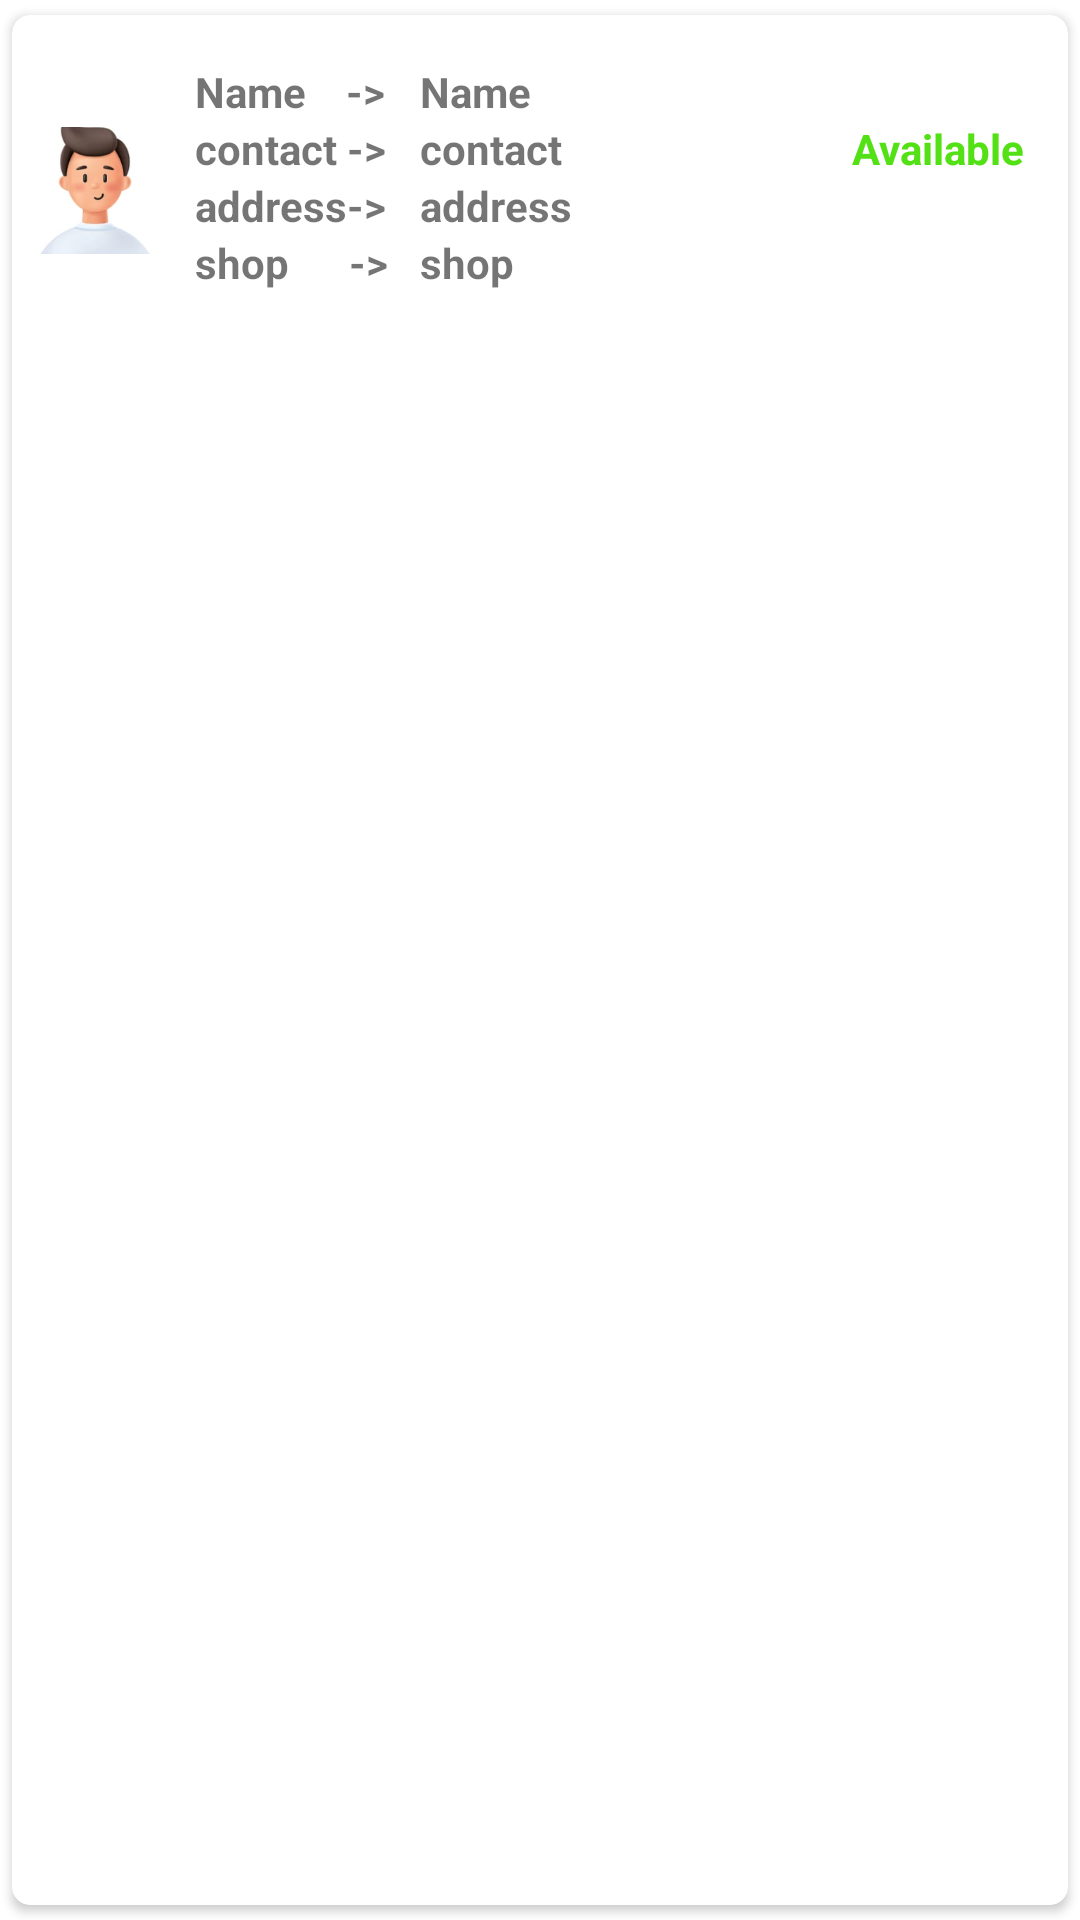

Icon bounding boxes for this 1080×1920 phone screenshot, format (x1, y1, x2, y2):
avtar: (41, 127, 149, 254)
